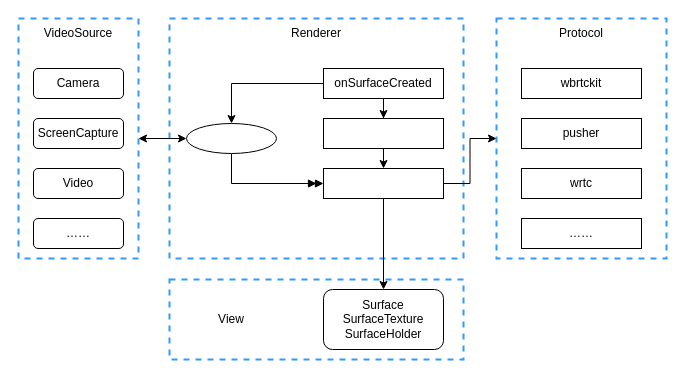
Image size: 684x377. Some labels were removed from this diagram. Here are the shapes that lost their labels. From the top down, the centre of each, then its label:
At point 231,138: "SurfaceTexture".
At point 383,133: "onSurfaceChanged".
At point 383,183: "onDrawFrame".
